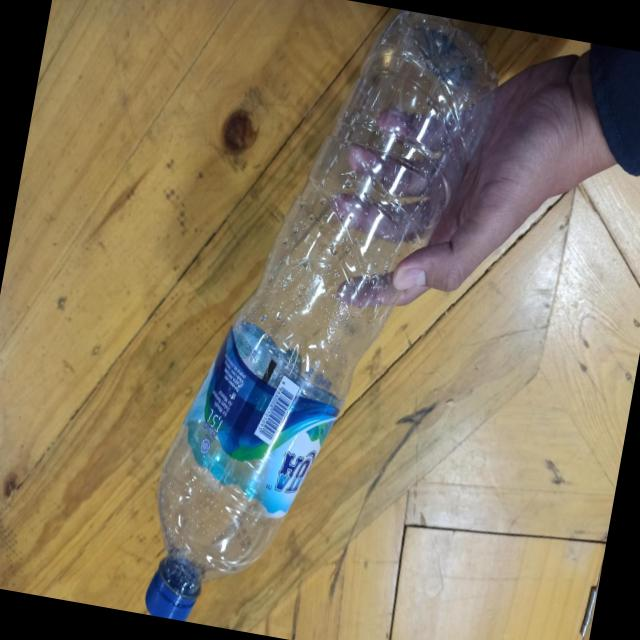BotolPlastik: (134, 0, 509, 640)
